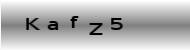5: (110, 17, 122, 31)
K: (24, 16, 40, 30)
Z: (87, 21, 103, 35)
a: (46, 20, 58, 30)
f: (69, 15, 79, 28)
